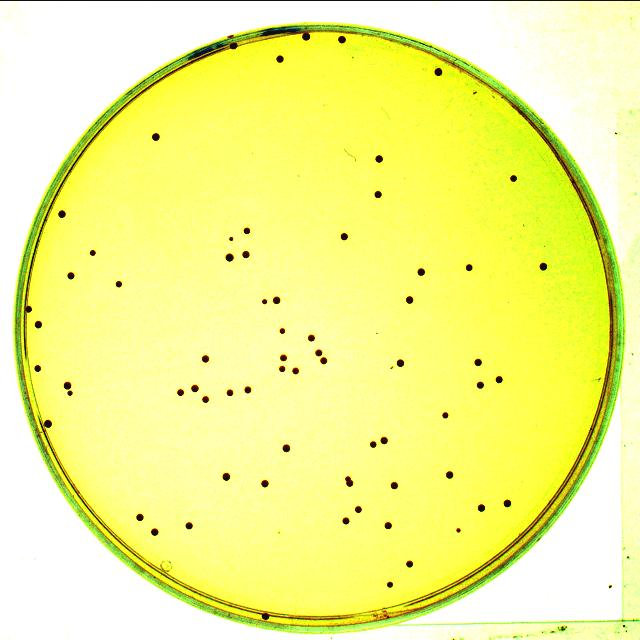colony: (345, 475, 354, 486), (222, 472, 230, 480), (342, 516, 350, 524), (446, 470, 454, 478), (320, 356, 328, 364), (242, 250, 250, 258), (152, 132, 160, 140), (64, 381, 71, 389), (151, 528, 159, 535), (191, 384, 199, 391), (261, 479, 269, 486), (282, 444, 290, 451), (396, 359, 404, 366), (292, 366, 299, 374), (226, 252, 234, 259), (230, 41, 238, 48), (302, 32, 310, 39), (406, 295, 414, 302), (540, 262, 548, 269), (44, 419, 51, 426), (391, 481, 398, 488), (478, 504, 485, 511), (504, 499, 511, 506), (381, 436, 388, 443), (442, 411, 449, 418), (435, 68, 442, 75), (375, 154, 382, 161), (418, 268, 425, 275), (35, 320, 41, 328), (68, 271, 74, 279), (136, 514, 144, 520), (186, 521, 192, 529), (385, 521, 391, 529), (276, 55, 284, 61), (375, 190, 381, 198), (35, 364, 41, 371), (202, 395, 209, 401), (355, 505, 361, 512), (496, 375, 502, 382), (475, 358, 481, 365), (315, 349, 322, 355), (202, 355, 209, 361), (339, 35, 345, 42), (341, 232, 348, 238), (226, 389, 234, 394), (90, 249, 96, 255), (59, 210, 65, 216), (116, 280, 122, 286), (178, 389, 184, 395), (245, 386, 251, 392), (406, 560, 412, 566), (370, 440, 376, 446), (478, 381, 484, 387), (279, 365, 285, 371), (280, 354, 286, 360), (274, 296, 280, 302), (244, 226, 250, 232), (466, 264, 472, 270), (510, 174, 516, 180), (26, 305, 31, 311), (309, 334, 315, 339), (262, 299, 268, 303), (68, 390, 72, 395), (388, 581, 392, 586), (280, 328, 285, 332), (229, 236, 234, 240), (456, 528, 460, 531)
